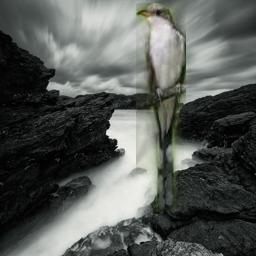Cuckoo: (136, 3, 186, 212)
